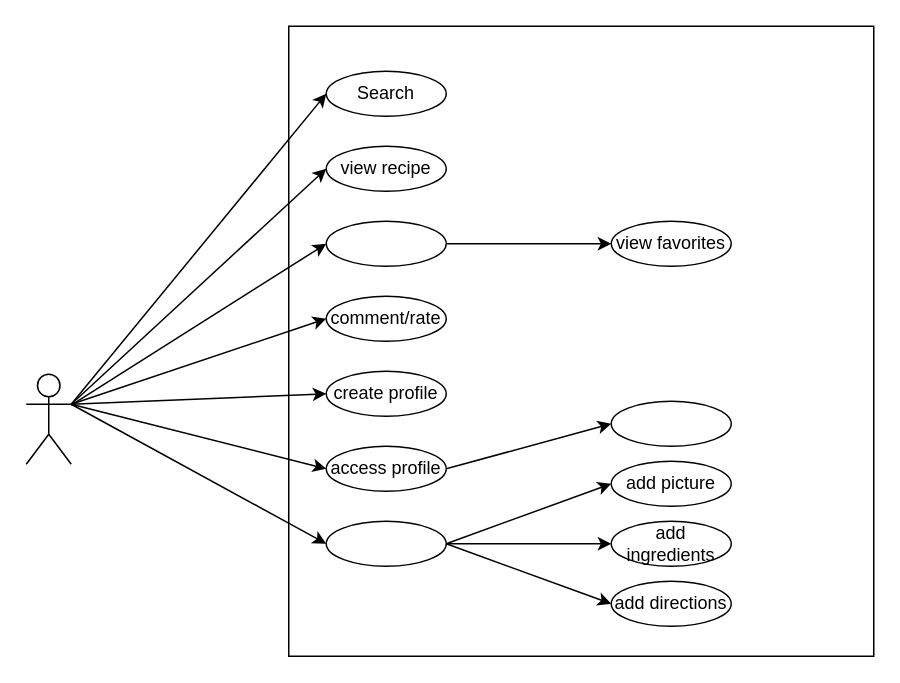
The diagram is 900 pixels wide and 683 high, and some of its shapes have lost their labels. The centre of each missing label's shape, as x and y in pixels:
"Create recipe" goes at (385,543).
"Favorite" goes at (385,243).
"login" goes at (670,423).
"User" goes at (48,418).
